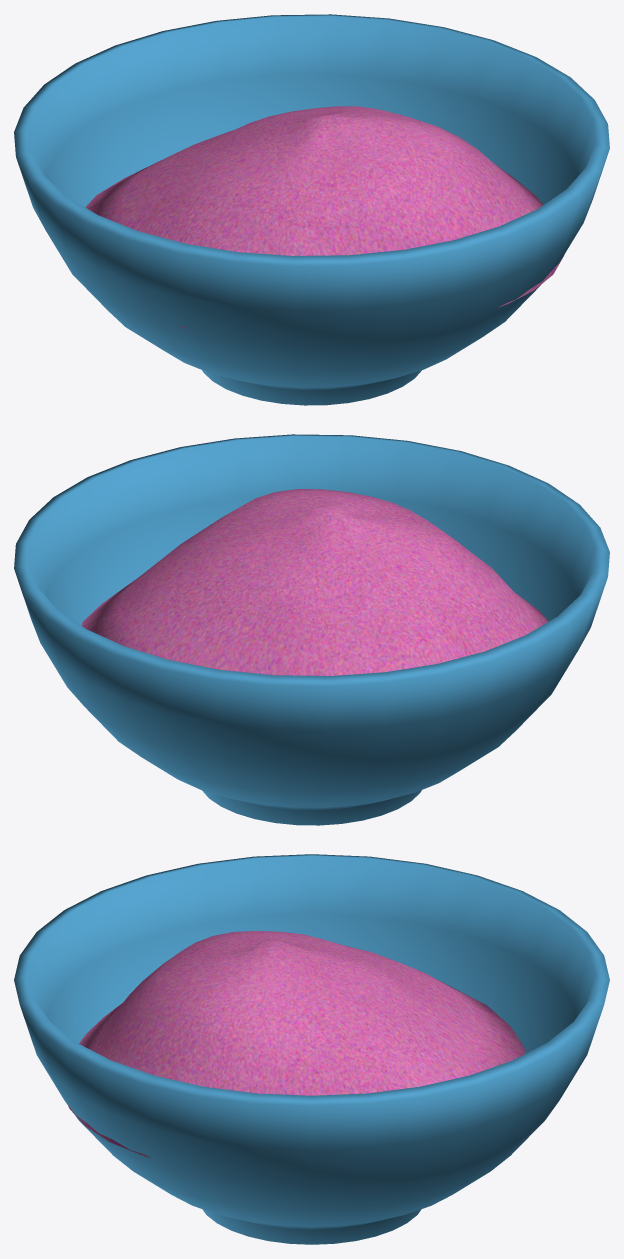
File: Bowl of Pink.obj
3 renders of one model, top to bottom at view 1: azimuth 30°, elevation 25°; view 2: azimuth 150°, elevation 25°; view 3: azimuth 270°, elevation 25°, orthographic.
Visible parts, largest first — view 1: Bowl_of_Pink; view 2: Bowl_of_Pink; view 3: Bowl_of_Pink.
Part boxes in pixels (x1=…): Bowl_of_Pink: x1=14, y1=14, x2=609, y2=405; Bowl_of_Pink: x1=14, y1=434, x2=609, y2=825; Bowl_of_Pink: x1=14, y1=854, x2=609, y2=1244.
Size of the model in its own units: 0.4424 by 0.208 by 0.4424.
